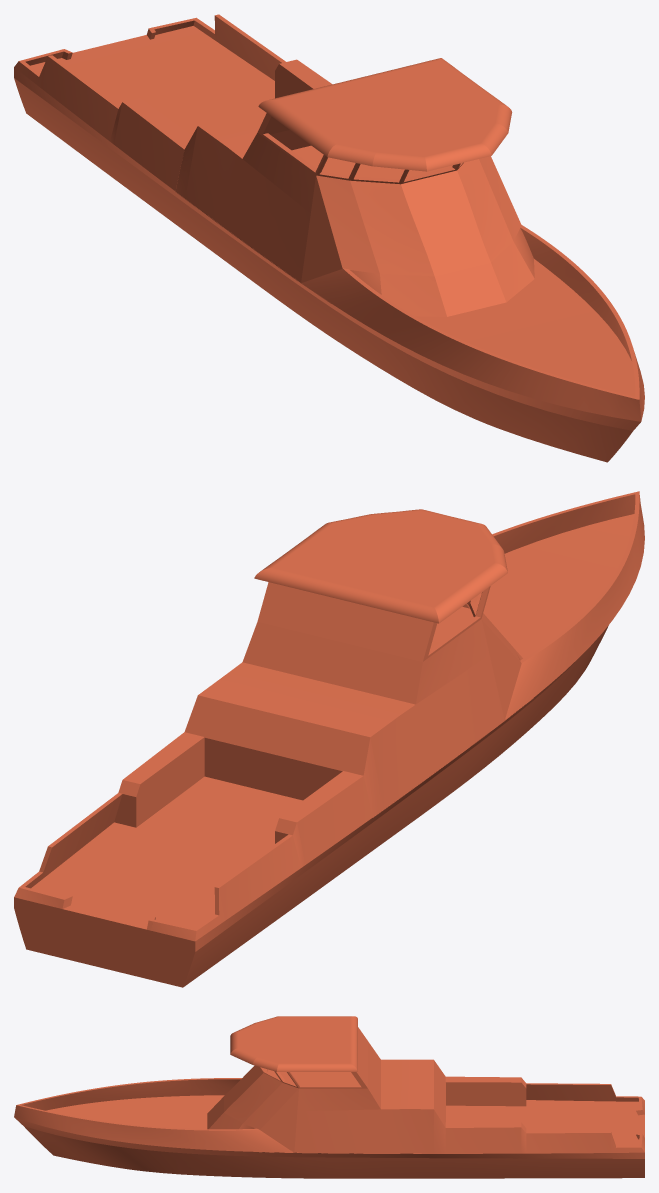
Rendered from Sin_nombre.gltf.
3 renders of one model, top to bottom at view 1: azimuth 30°, elevation 25°; view 2: azimuth 150°, elevation 25°; view 3: azimuth 270°, elevation 25°, orthographic. The views are drawn at different scales.
Parts seen in each view (by area): view 1: Casco_corte_completo; view 2: Casco_corte_completo; view 3: Casco_corte_completo.
Boxes of the visible parts, x1,y1,x2,y2 form: Casco_corte_completo: (14, 14, 644, 462); Casco_corte_completo: (14, 491, 644, 987); Casco_corte_completo: (14, 1016, 644, 1178).
Size of the model in its own units: 45.7 by 42.28 by 209.
